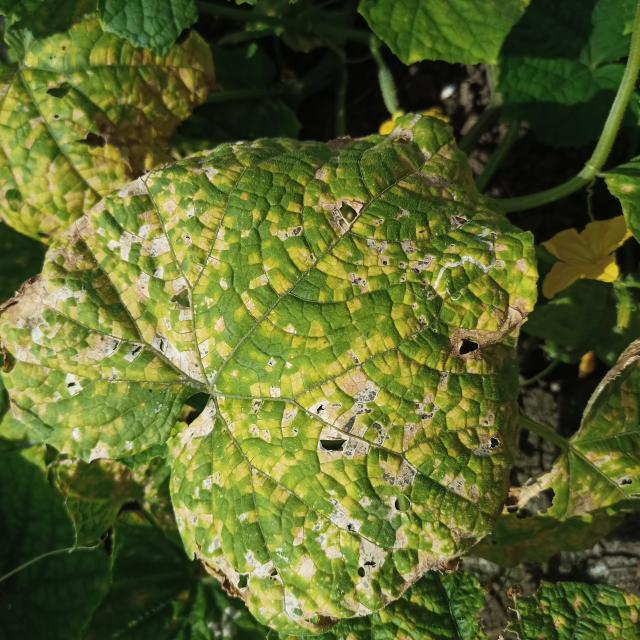disease_cucumber: (10, 115, 541, 618), (0, 14, 217, 236)
